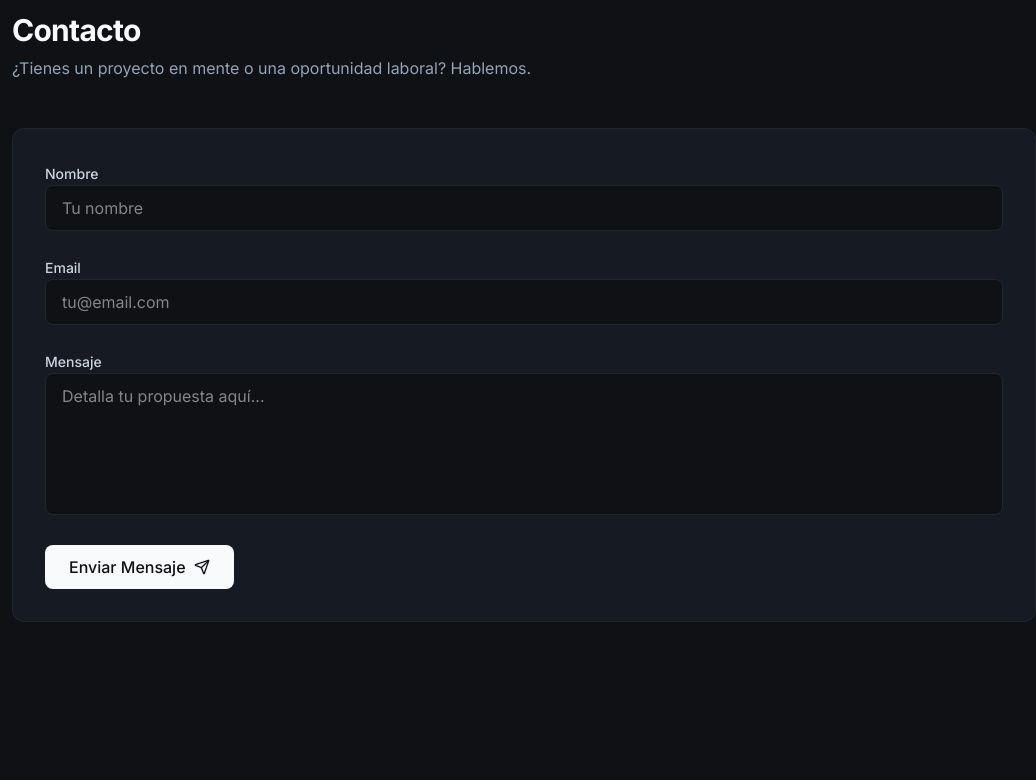
Test: Contact Page › shows validation error when message is too short
Type "John Doe" into the field labelled "Nombre" at x=524, y=208, box [45,185,1003,231]
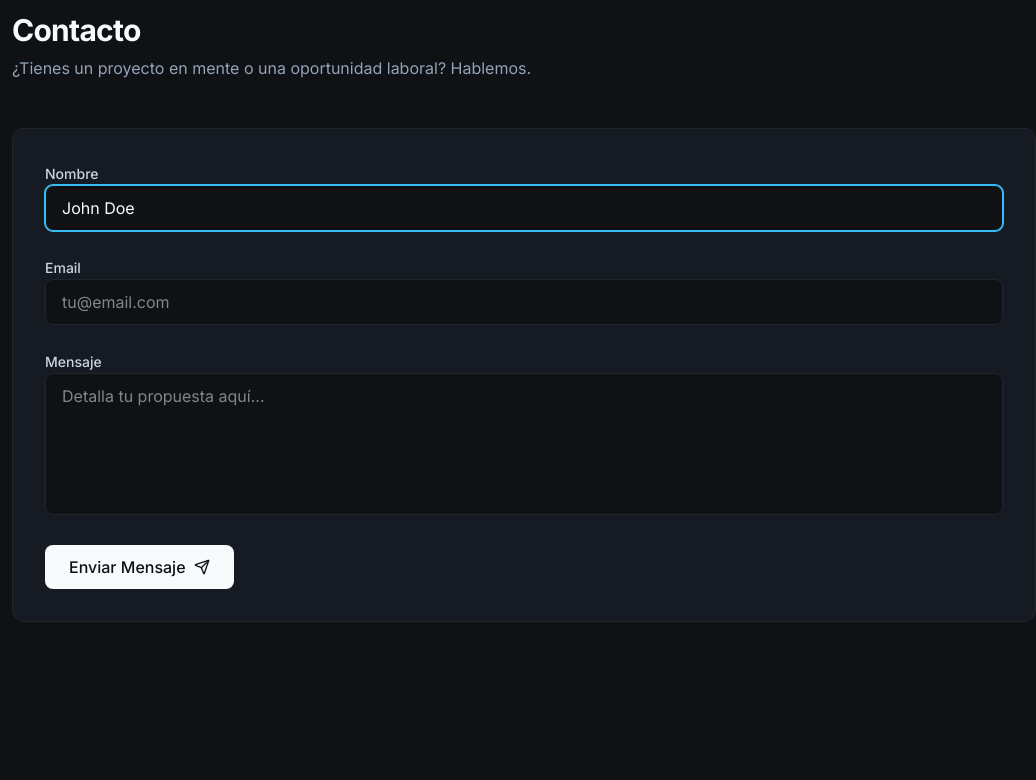
Type "john@example.com" into the field labelled "Email" at x=524, y=302, box [45,279,1003,325]
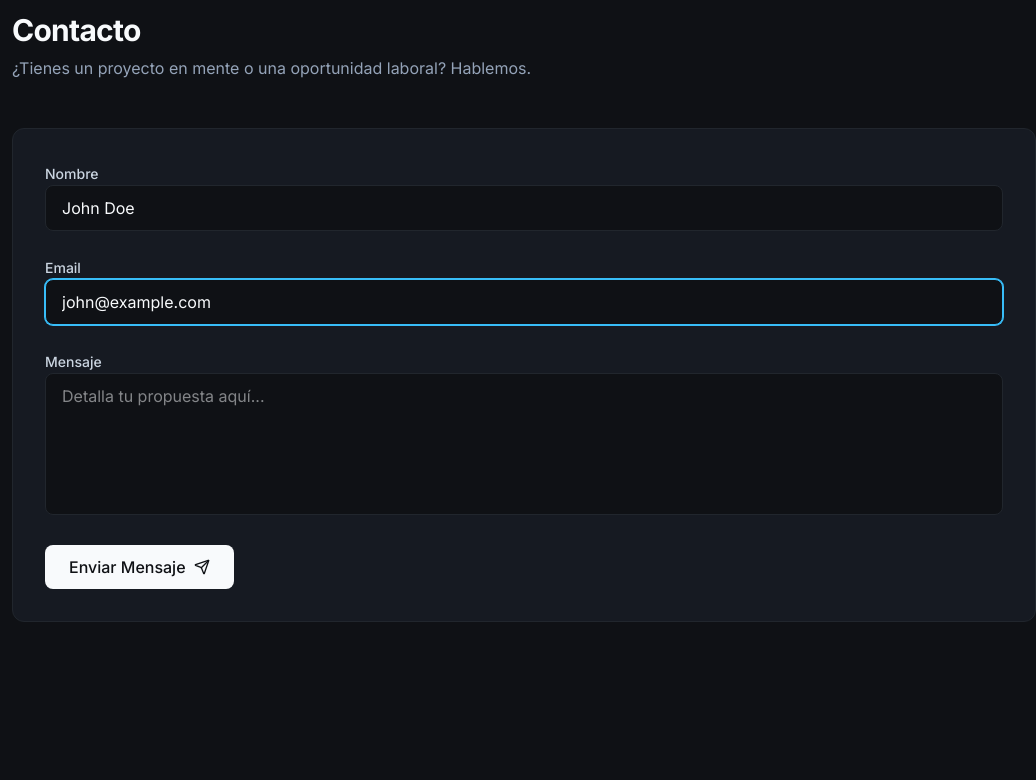
Type "Short" into the text box labelled "Mensaje" at x=524, y=444, box [45,373,1003,515]
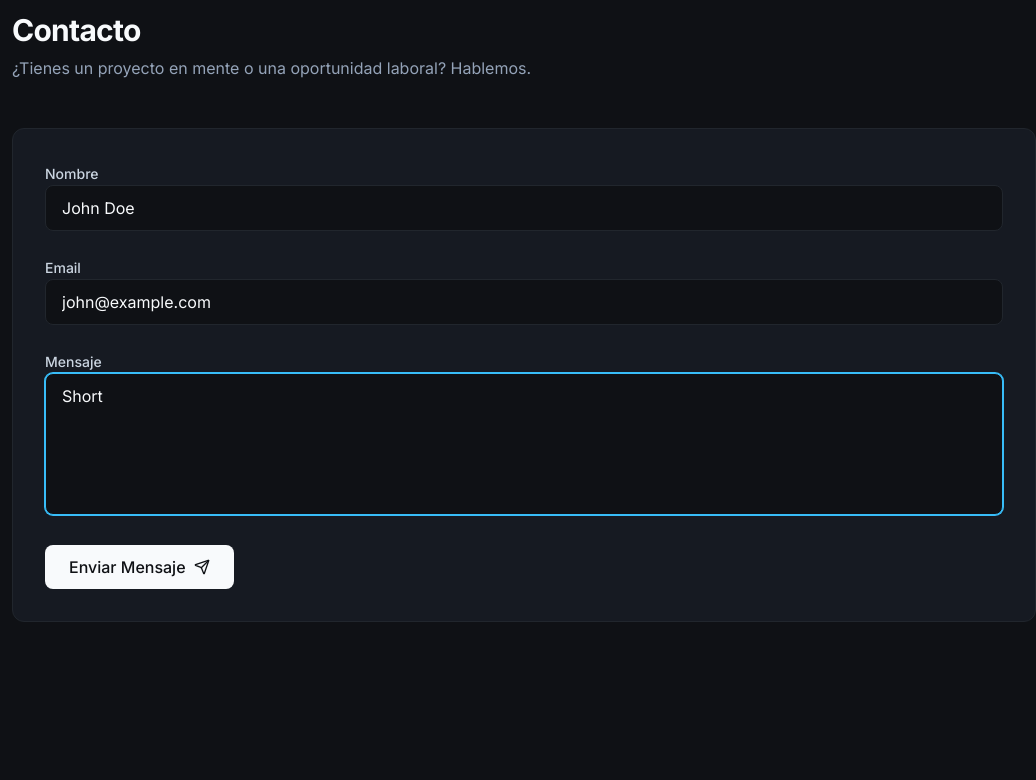
Click the button "Enviar Mensaje" at x=139, y=567, box [45,545,234,589]
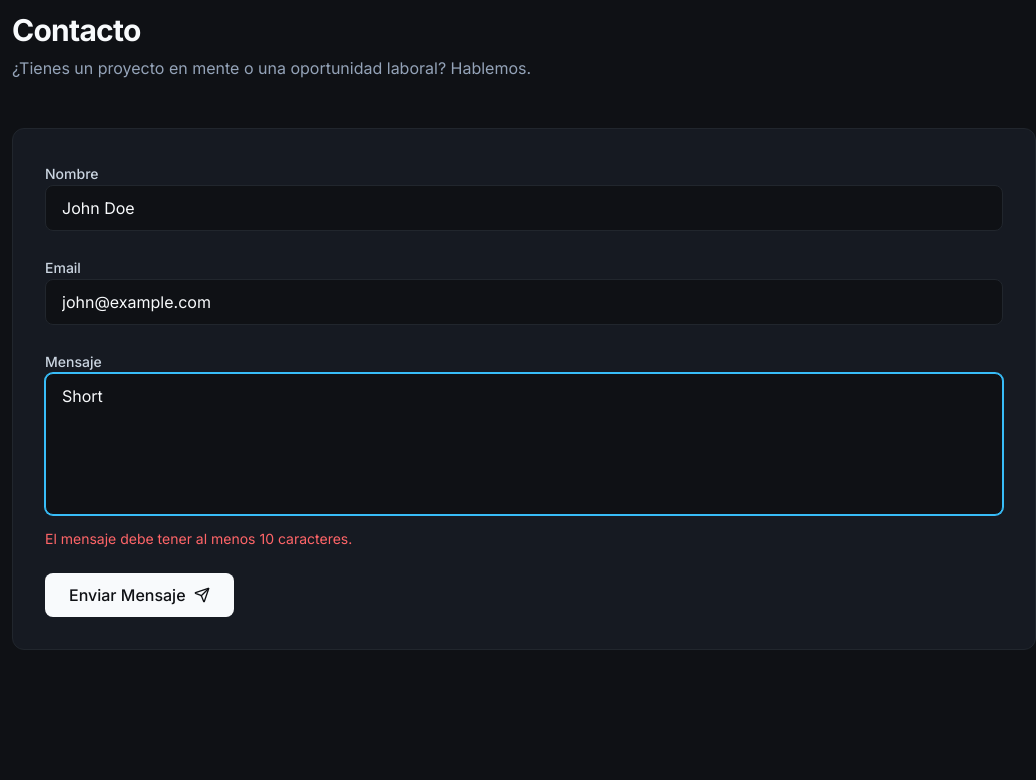
Expected: the text "El mensaje debe tener al menos 10 caracteres." is shown, [45,530,352,547]
